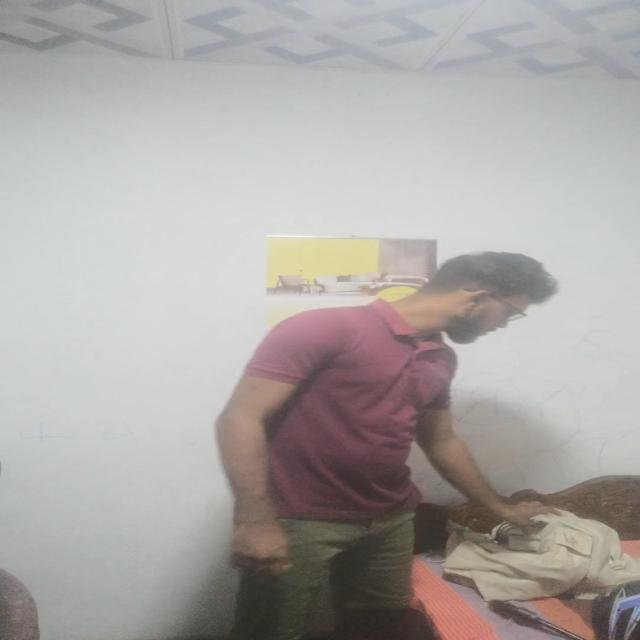Person: (214, 250, 556, 640)
